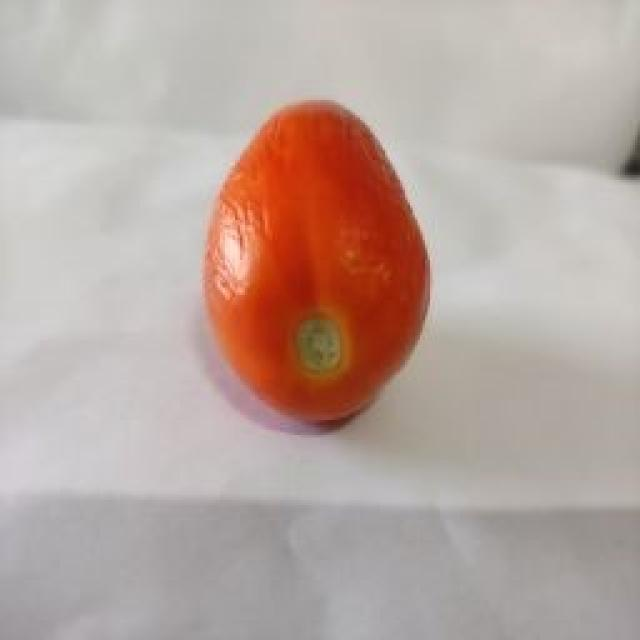overripe: (205, 96, 436, 427)
